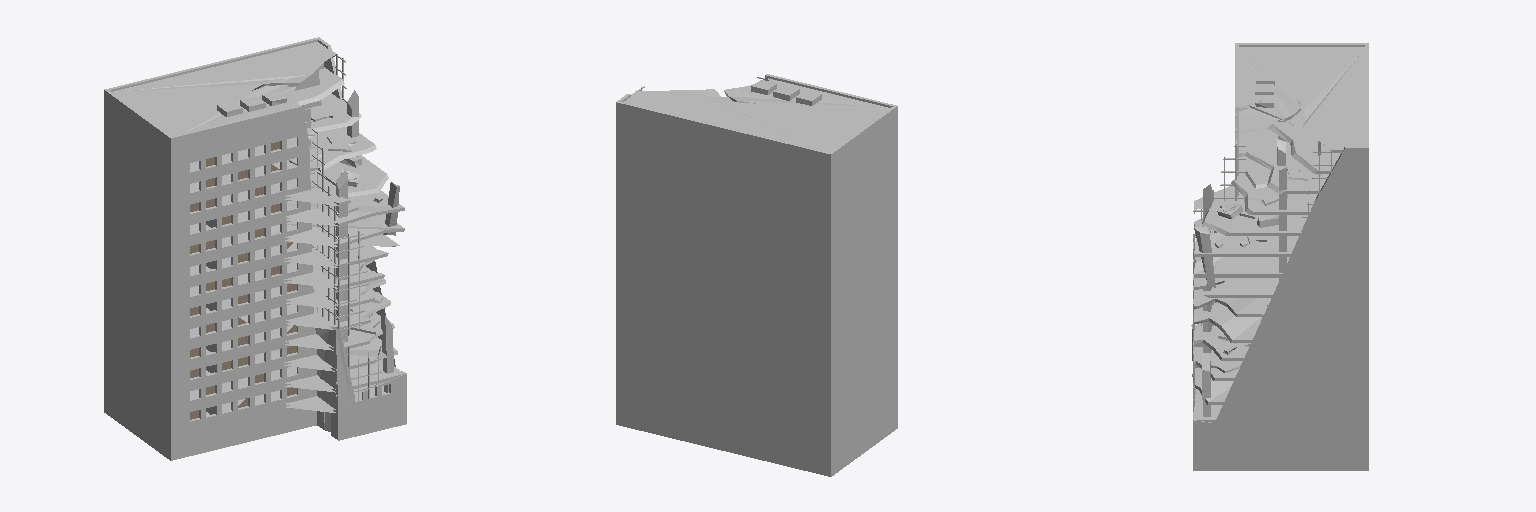
Rendered from Building01.obj.
3 renders of one model, left to right at view 1: azimuth 30°, elevation 25°; view 2: azimuth 150°, elevation 25°; view 3: azimuth 270°, elevation 25°, orthographic.
Parts seen in each view (by area): view 1: Building_01_Cube.136; view 2: Building_01_Cube.136; view 3: Building_01_Cube.136.
Boxes of the visible parts, <box> form: Building_01_Cube.136: <box>104,37,406,460</box>; Building_01_Cube.136: <box>616,74,897,476</box>; Building_01_Cube.136: <box>1191,43,1368,470</box>.
Bounding box in the file's own units: 8.49 × 12.29 × 6.08.